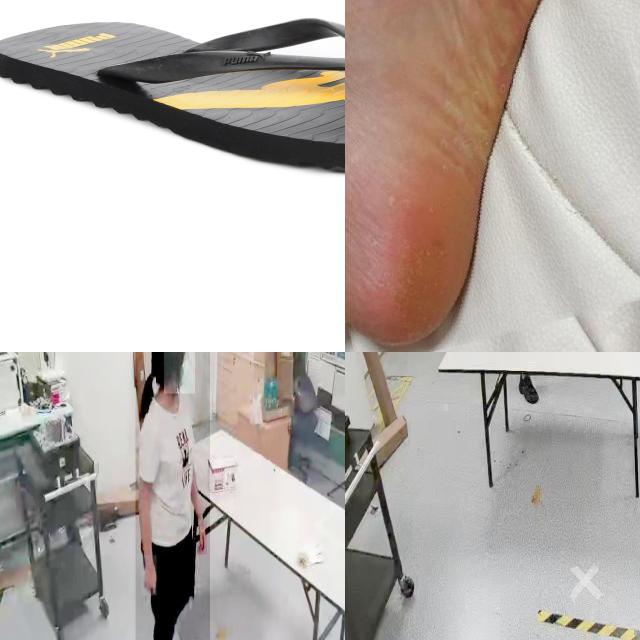Barefoots: (345, 0, 640, 352)
Sandals: (0, 16, 345, 177)
face_mask: (164, 352, 195, 393)
hand_noglove: (141, 556, 157, 596), (195, 514, 208, 556)
person: (135, 352, 210, 640)
shoes: (519, 374, 540, 407), (163, 614, 185, 640)
